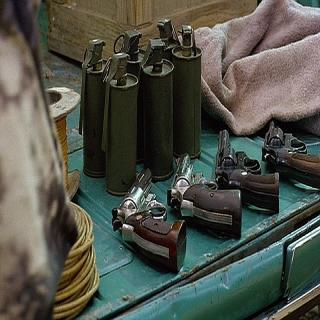gun: (107, 160, 187, 282), (167, 144, 243, 247), (212, 117, 281, 224), (259, 103, 319, 194)
